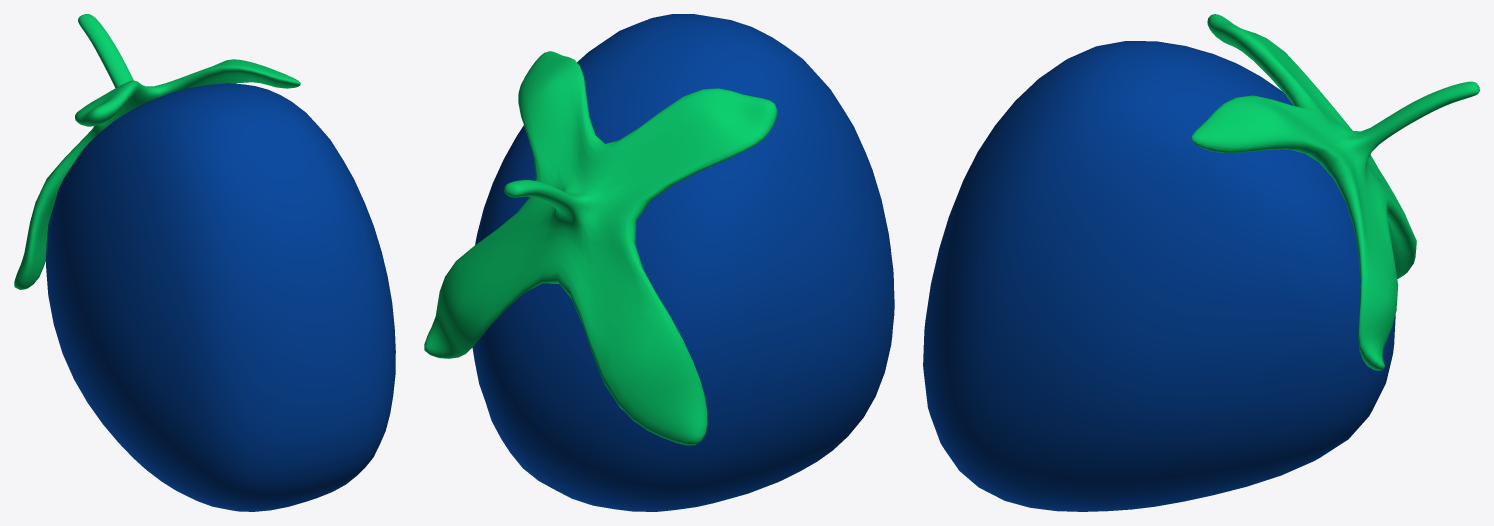
File: blawberry.fbx
The picture shows the model from 3 angles, left to right: view 1: azimuth 30°, elevation 25°; view 2: azimuth 150°, elevation 25°; view 3: azimuth 270°, elevation 25°; orthographic projection. The views are drawn at different scales.
Parts seen in each view (by area): view 1: polySurface4; view 2: polySurface4; view 3: polySurface4.
Boxes of the visible parts, x1,y1,x2,y2 form: polySurface4: (14, 14, 395, 511); polySurface4: (424, 14, 894, 511); polySurface4: (923, 14, 1479, 511).
Bounding box in the file's own units: 1.17 × 1.52 × 1.76.
